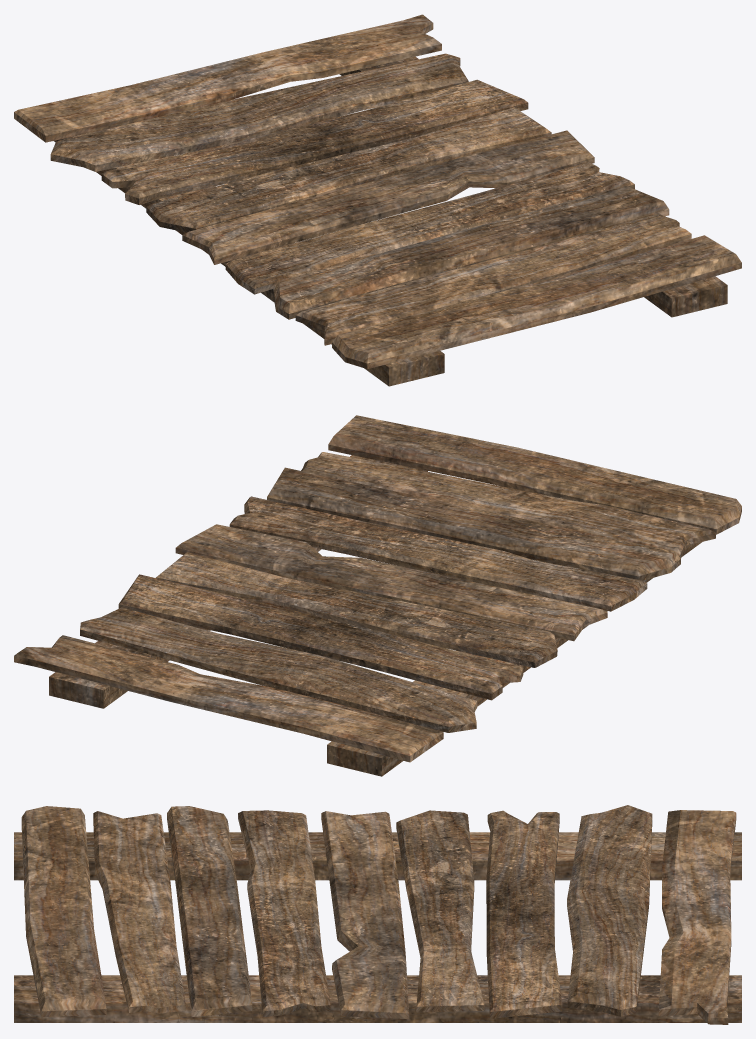
The model's file is Bridge_4.fbx.
3 views of the same model, one above another, from view 1: azimuth 30°, elevation 25°; view 2: azimuth 150°, elevation 25°; view 3: azimuth 270°, elevation 25° (orthographic). The views are drawn at different scales.
Visible parts, largest first — view 1: Bridge_4; view 2: Bridge_4; view 3: Bridge_4.
Boxes of the visible parts, <box> form: Bridge_4: <box>14,14,741,386</box>; Bridge_4: <box>14,415,741,776</box>; Bridge_4: <box>14,805,741,1024</box>.
Size of the model in its own units: 3.45 by 0.2559 by 4.99.
1 material, 1 textured.
